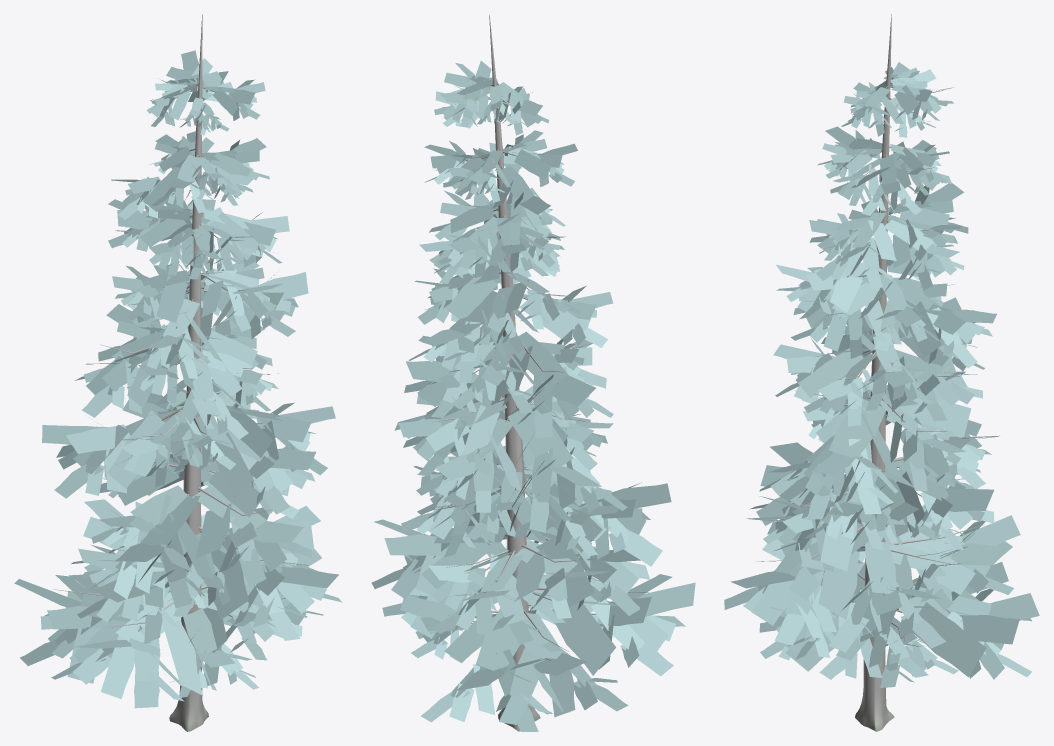
Rendered from luming_streamed_crown.glb.
The picture shows the model from 3 angles, left to right: view 1: azimuth 30°, elevation 25°; view 2: azimuth 150°, elevation 25°; view 3: azimuth 270°, elevation 25°; orthographic projection. The views are drawn at different scales.
Parts seen in each view (by area): view 1: NeedleGroupsNear, NeedleGroupsFar, StreamedWood; view 2: NeedleGroupsNear, NeedleGroupsFar, StreamedWood; view 3: NeedleGroupsNear, NeedleGroupsFar, StreamedWood.
Part boxes in pixels (x1,y1,x2,y2): NeedleGroupsNear: (20, 50, 338, 698); NeedleGroupsFar: (14, 50, 342, 708); StreamedWood: (53, 14, 307, 731); NeedleGroupsNear: (371, 61, 679, 731); NeedleGroupsFar: (371, 61, 695, 731); StreamedWood: (430, 14, 648, 731); NeedleGroupsNear: (724, 62, 1031, 687); NeedleGroupsFar: (724, 62, 1039, 687); StreamedWood: (755, 14, 984, 731).
Bounding box in the file's own units: 6.57 × 15.8 × 6.29.
